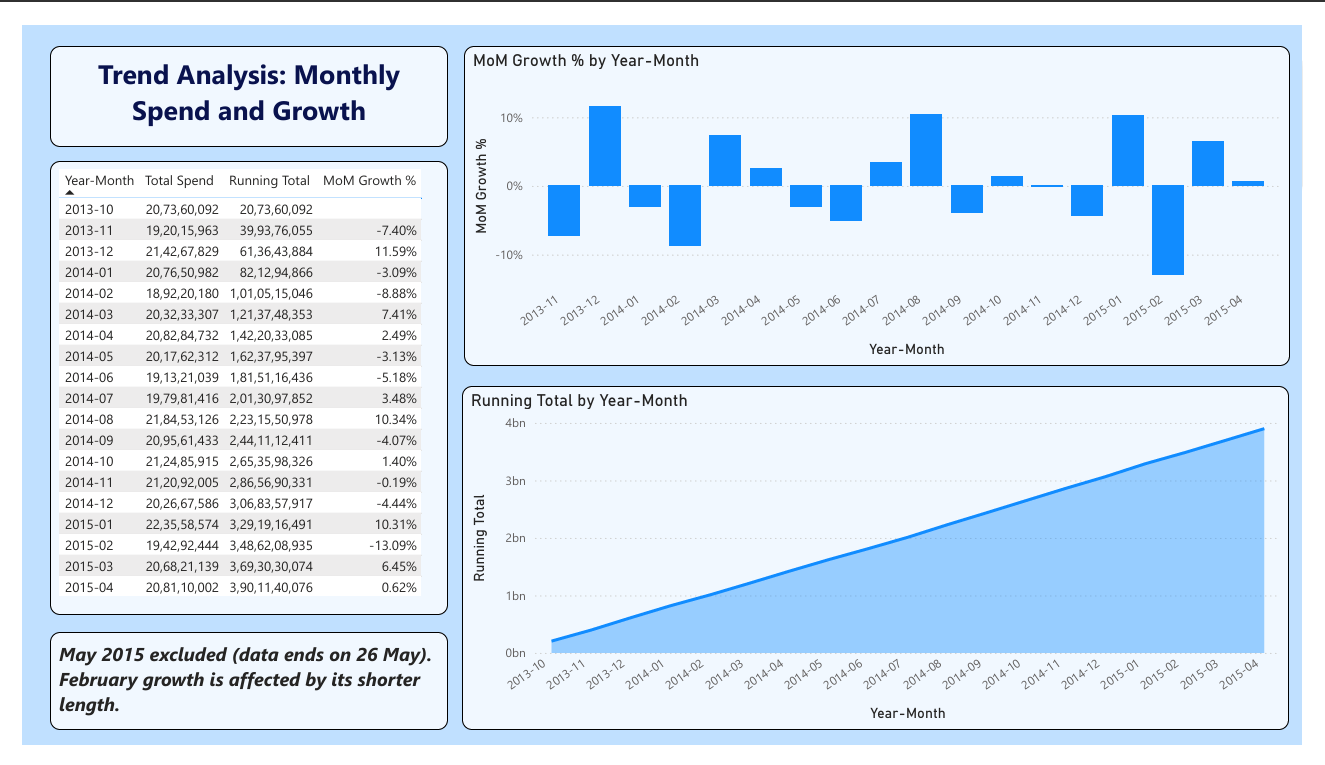

The page's visual inventory and layout, read from the dashboard file:
{"tool":"powerbi","page":{"name":"Trend Analysis","canvas":[1280,720],"ordinal":1},"visuals":[{"type":"tableEx","fields":{"Values":["DateTable.Year-Month","Transactions.Total Spend","Transactions.Running Total","Transactions.MoM Growth %"]},"box":[27,135.1,398.2,453.7],"z":0},{"type":"clusteredColumnChart","fields":{"Category":["DateTable.Year-Month"],"Y":["Transactions.MoM Growth %"]},"box":[440.9,19.9,826.3,320],"z":1},{"type":"areaChart","fields":{"Category":["DateTable.Year-Month"],"Y":["Transactions.Running Total"]},"box":[439.5,359.8,826.3,344.2],"z":2},{"type":"textbox","box":[27,19.9,398.2,101],"z":3},{"type":"textbox","box":[27,605.9,398.2,98.1],"z":4}]}

Visuals, with their boxes in screenshot pixels (x1, y1, x2, y2), scaled from the page's 1280x720 canvas onto the 1325x765 screenshot:
tableEx - DateTable.Year-Month x Transactions.Total Spend: bbox=(28, 144, 440, 626)
clusteredColumnChart - DateTable.Year-Month x Transactions.MoM Growth %: bbox=(456, 21, 1312, 361)
areaChart - DateTable.Year-Month x Transactions.Running Total: bbox=(455, 382, 1310, 748)
textbox: bbox=(28, 21, 440, 128)
textbox: bbox=(28, 644, 440, 748)
